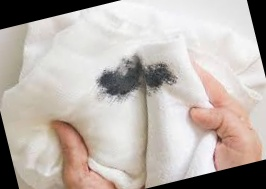ink: (96, 54, 177, 103)
